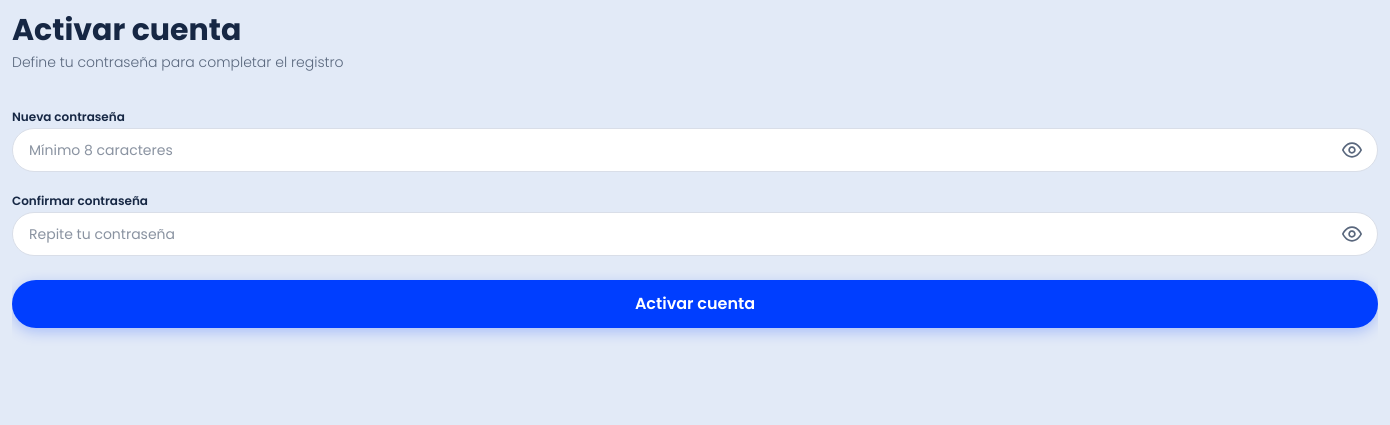
Test: ActivateAccountForm › muestra error si las contraseñas no coinciden
Type "SecurePass1!" into the password field labelled "Nueva contraseña" at (695, 150), box [12,128,1378,172]
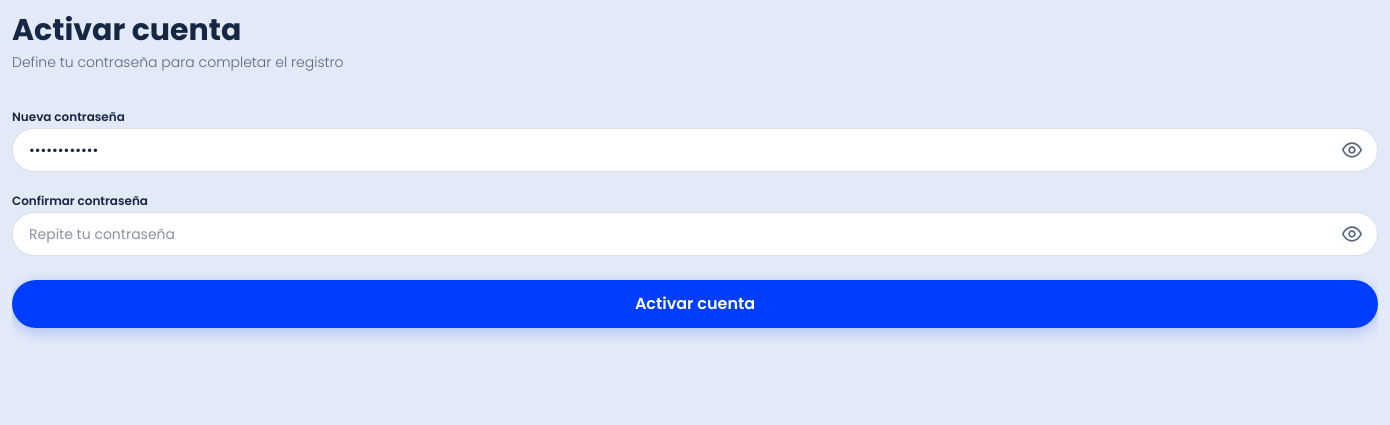
Type "OtraPass1!" into the password field labelled "Confirmar contraseña" at (695, 234), box [12,212,1378,256]
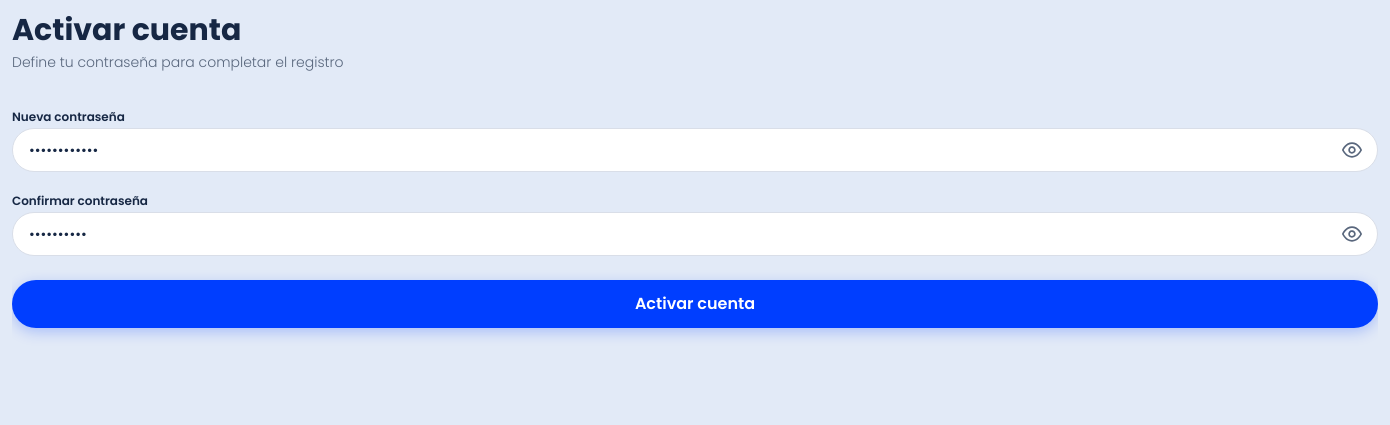
Click the button "Activar cuenta" at (695, 304), box [12,280,1378,328]
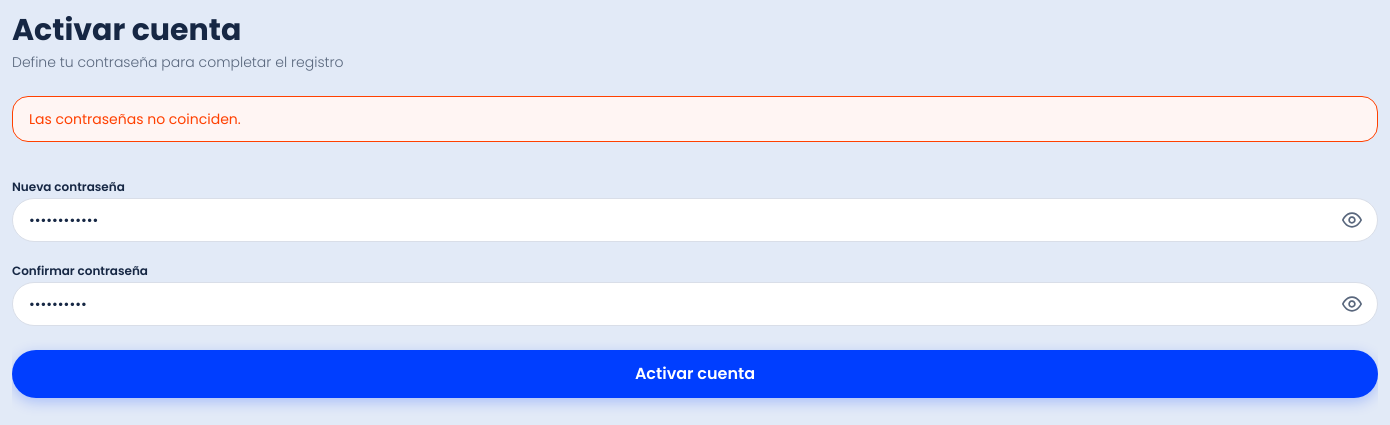
Expected: the message shows "no coinciden", [29,109,241,129]
